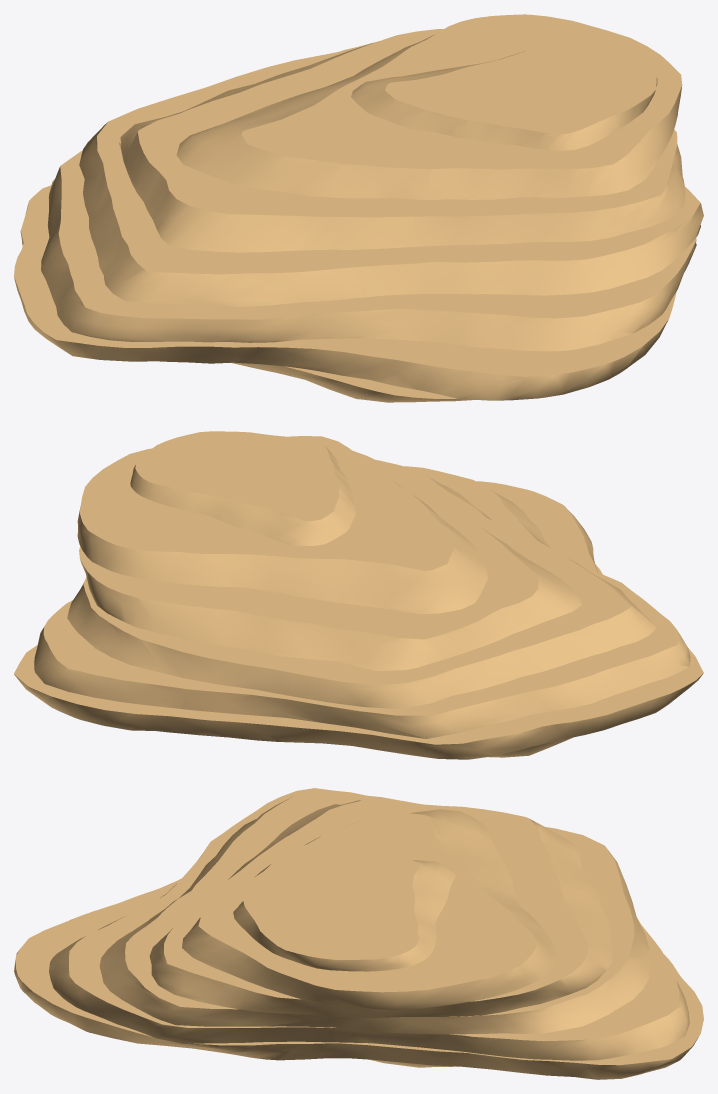
Rendered from kayou2 sable.fbx.
3 renders of one model, top to bottom at view 1: azimuth 30°, elevation 25°; view 2: azimuth 150°, elevation 25°; view 3: azimuth 270°, elevation 25°, orthographic. The views are drawn at different scales.
Parts seen in each view (by area): view 1: Kayou2; view 2: Kayou2; view 3: Kayou2.
Boxes of the visible parts, <box> form: Kayou2: <box>14,14,703,402</box>; Kayou2: <box>14,431,703,759</box>; Kayou2: <box>14,788,703,1079</box>.
Size of the model in its own units: 67.81 by 16.89 by 68.41.
